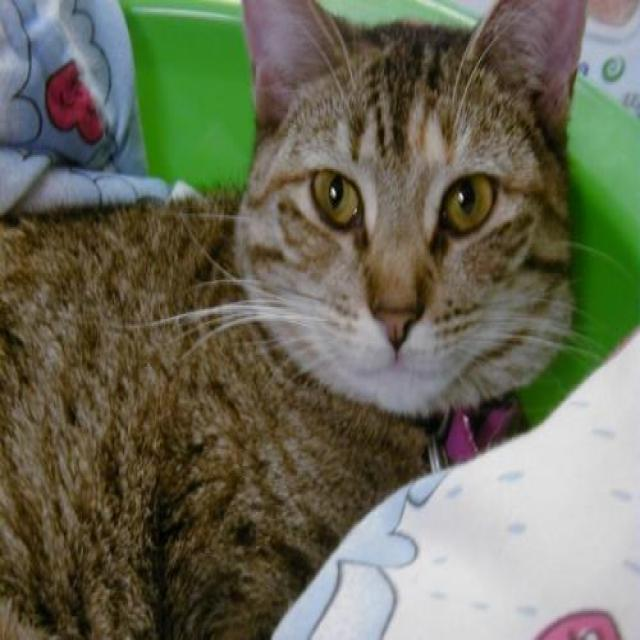Cats: (0, 0, 601, 638)
